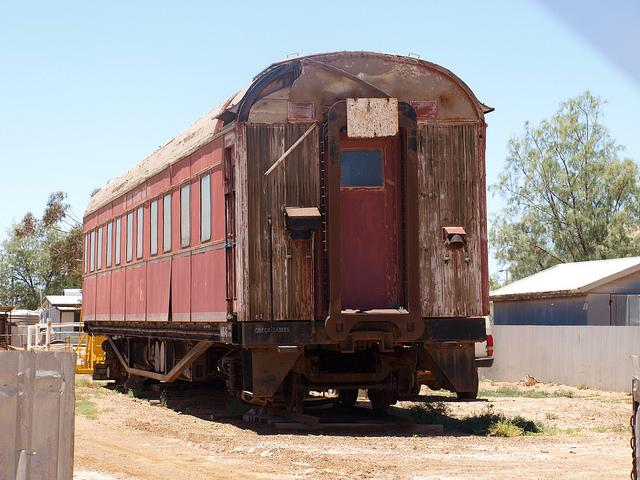Train: (79, 46, 506, 420)
